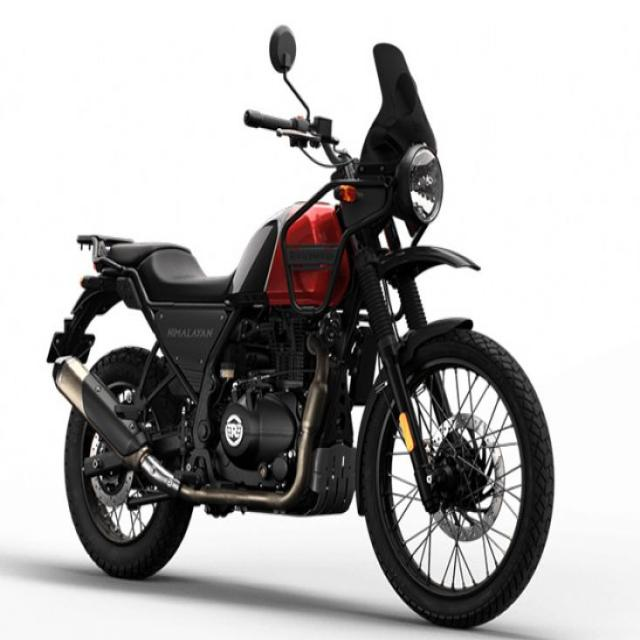motorcycle: (48, 43, 552, 626)
